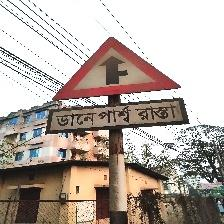Side-road-right: (45, 37, 187, 133)
